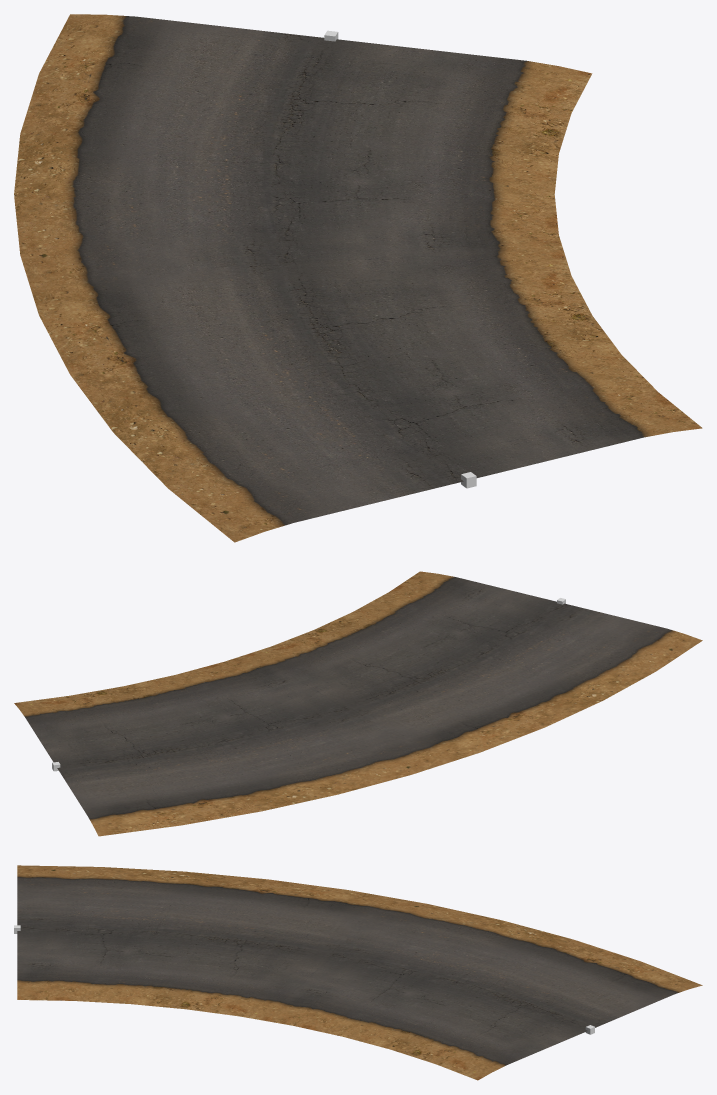
File: roadBend45.R.fbx
3 views of the same model, one above another, from view 1: azimuth 30°, elevation 25°; view 2: azimuth 150°, elevation 25°; view 3: azimuth 270°, elevation 25° (orthographic). The views are drawn at different scales.
Parts seen in each view (by area): view 1: MESH roadBend45.R; view 2: MESH roadBend45.R; view 3: MESH roadBend45.R.
Boxes of the visible parts, <box> form: MESH roadBend45.R: <box>14,14,702,542</box>; MESH roadBend45.R: <box>14,571,702,836</box>; MESH roadBend45.R: <box>17,865,702,1080</box>.
Size of what is drawn, in the model's own units: 3839 by 50.77 by 5195.
